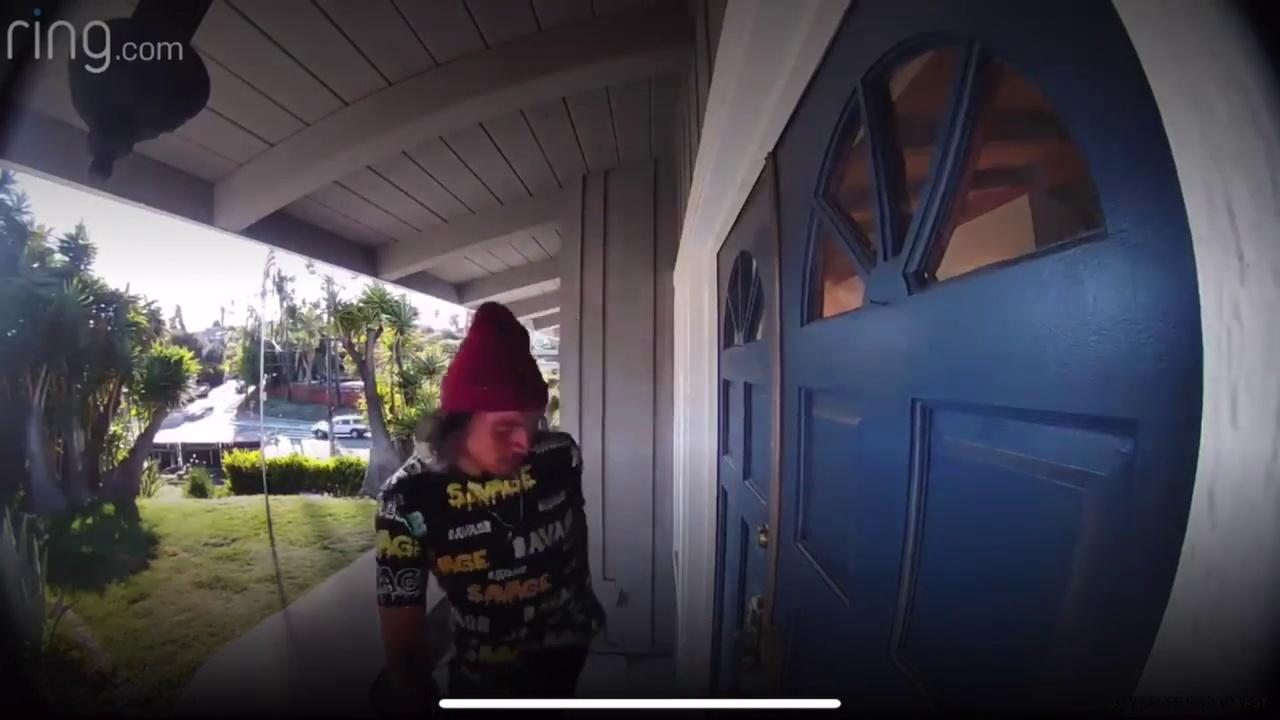suspicion: (330, 202, 644, 706)
